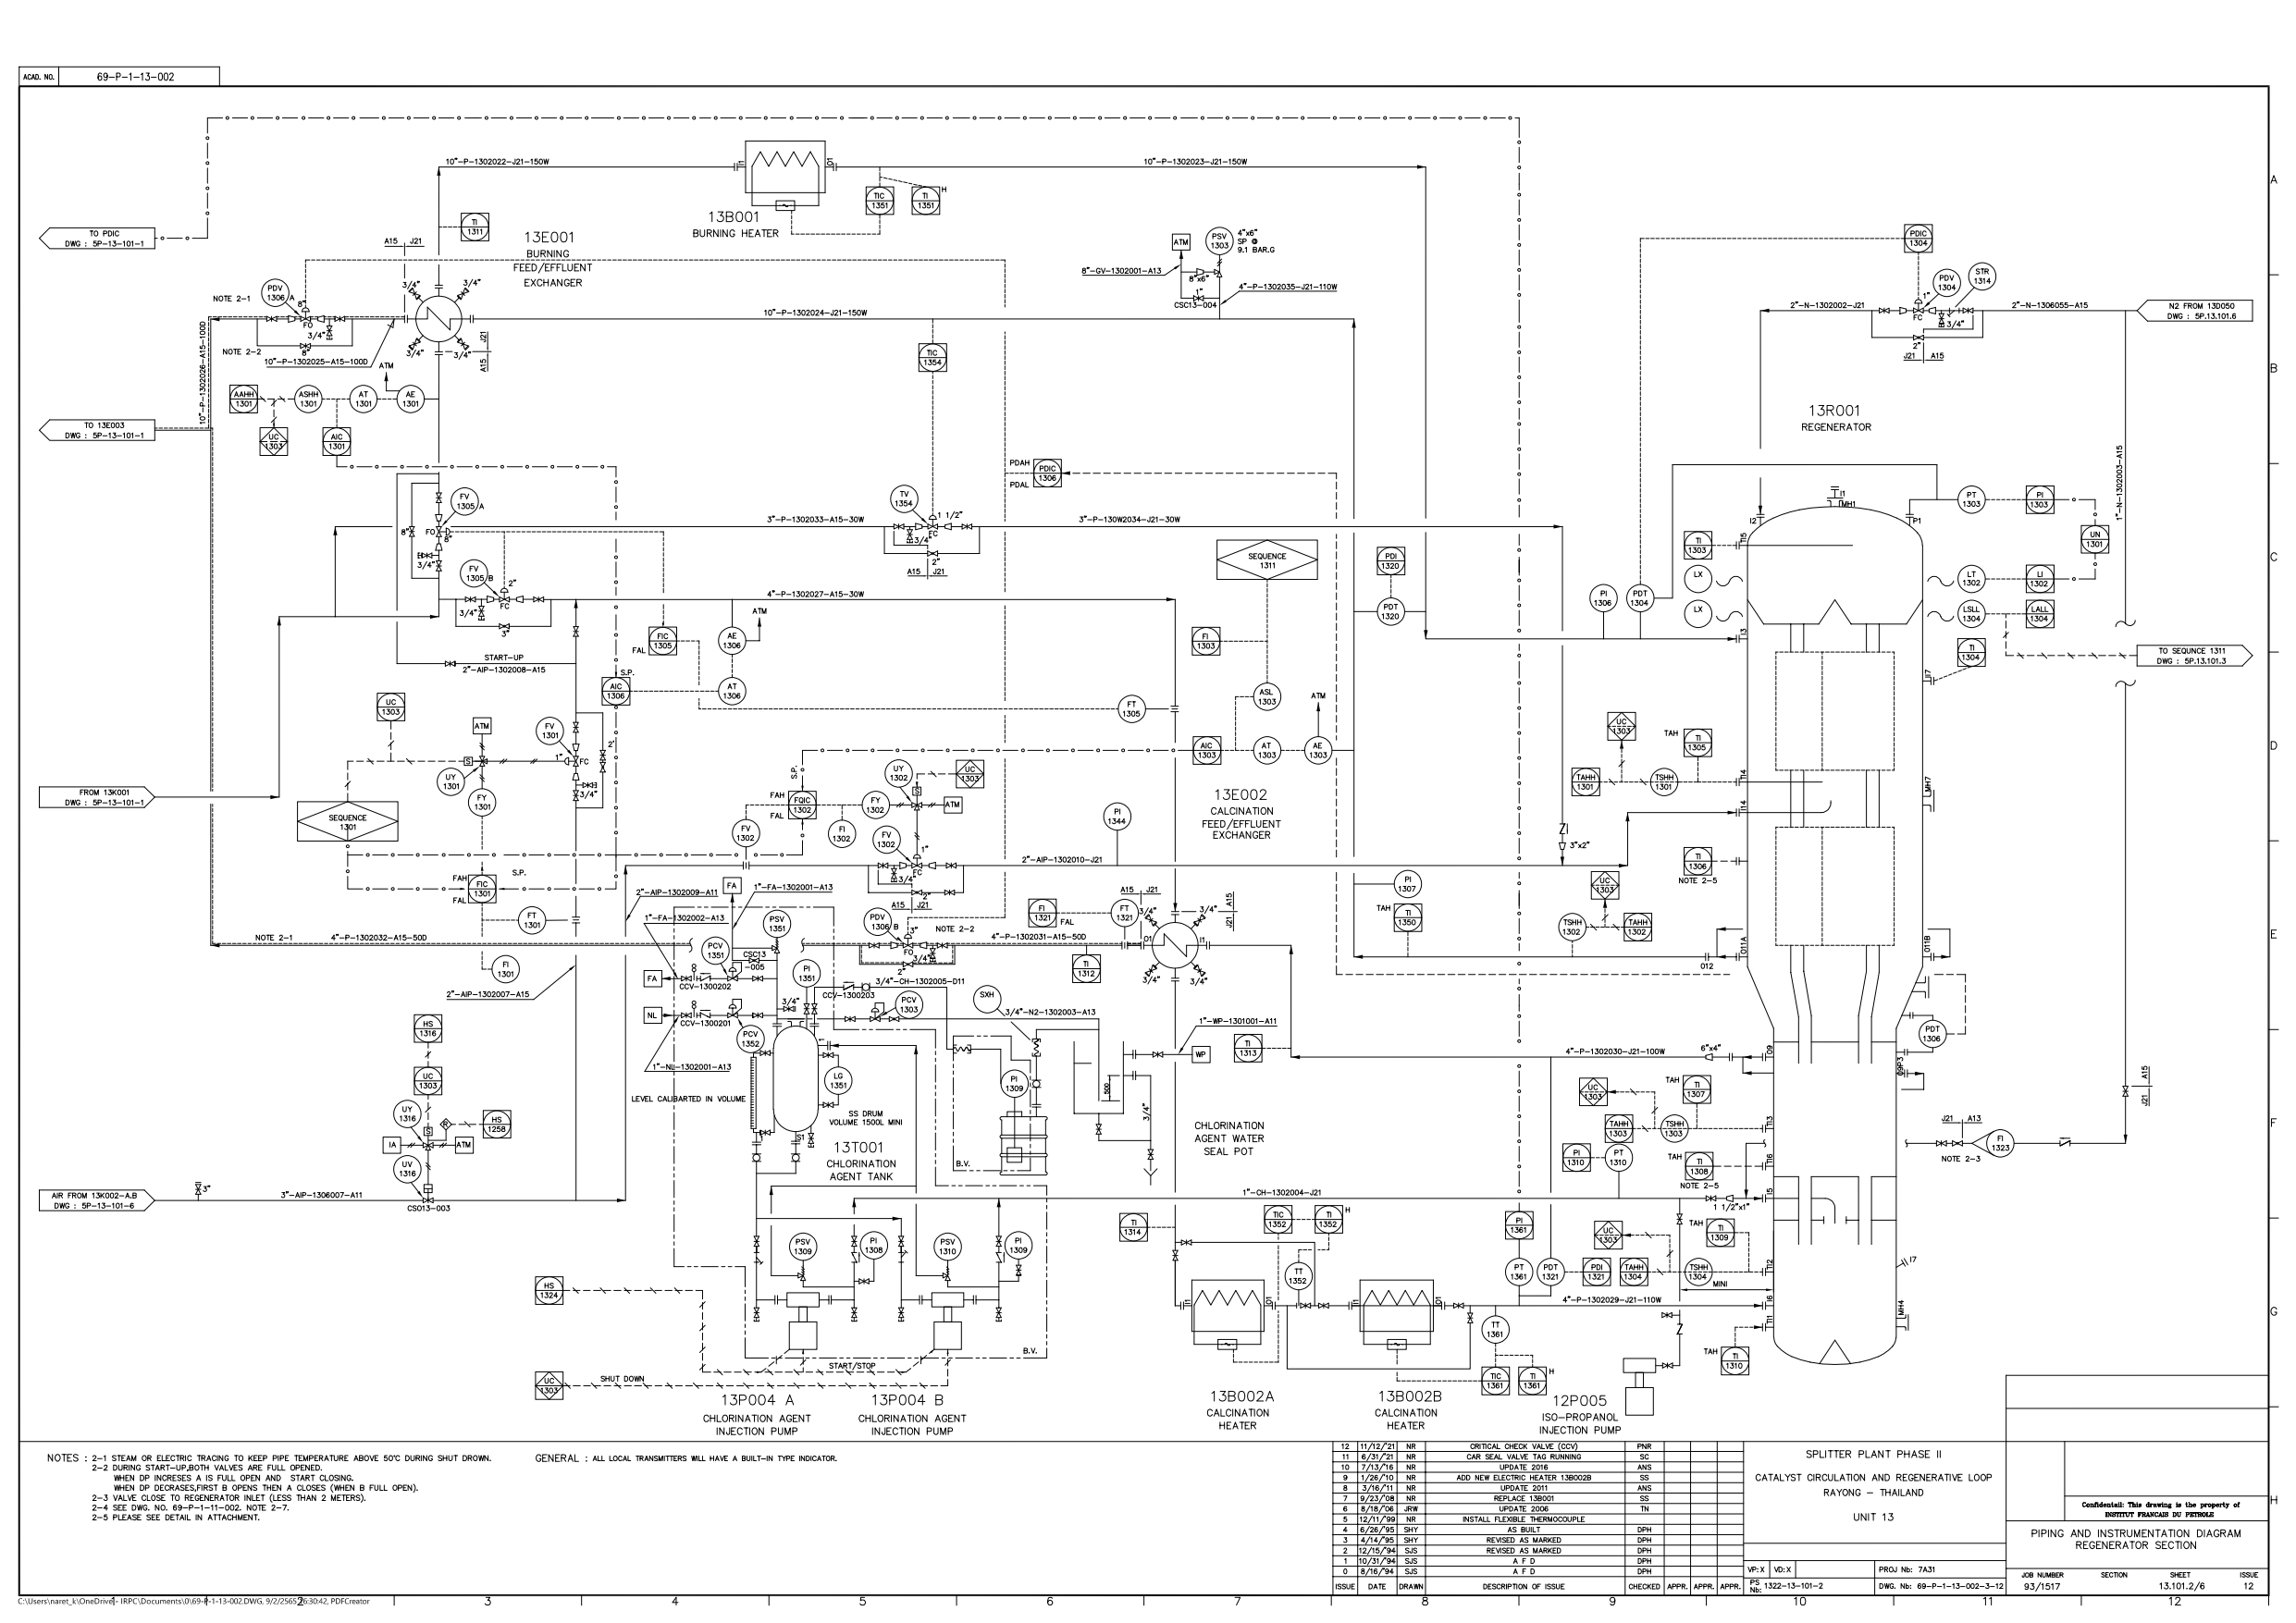piping: (762, 511, 868, 525), (1075, 513, 1182, 525), (195, 318, 207, 425), (444, 153, 552, 165), (1558, 1293, 1664, 1305), (873, 973, 968, 985), (1140, 155, 1249, 165), (761, 307, 868, 318), (262, 355, 369, 365), (1563, 1043, 1669, 1054), (987, 931, 1089, 941), (329, 931, 430, 941), (1240, 1184, 1326, 1196), (766, 587, 864, 597), (1079, 263, 1163, 276), (1003, 1006, 1100, 1017), (752, 880, 833, 892), (2112, 443, 2124, 522), (458, 666, 548, 676), (1237, 281, 1340, 290), (1021, 852, 1107, 862), (632, 885, 718, 896), (444, 987, 531, 998), (278, 1189, 364, 1200), (650, 1061, 734, 1071), (2010, 299, 2092, 309), (1788, 299, 1867, 309), (1196, 1015, 1279, 1024), (643, 912, 726, 920)
